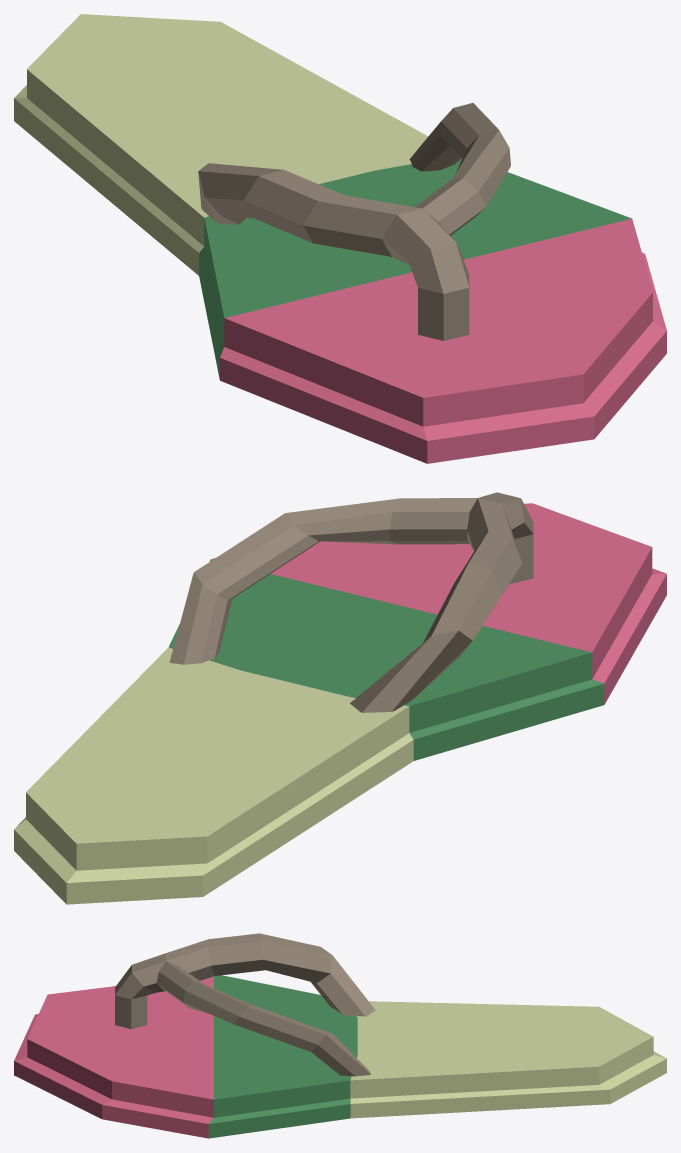
Rendered from flipflop.fbx.
3 renders of one model, top to bottom at view 1: azimuth 30°, elevation 25°; view 2: azimuth 150°, elevation 25°; view 3: azimuth 270°, elevation 25°, orthographic. The views are drawn at different scales.
Visible parts, largest first — view 1: pCylinder15; view 2: pCylinder15; view 3: pCylinder15.
Boxes of the visible parts, x1,y1,x2,y2 form: pCylinder15: [14, 14, 666, 463]; pCylinder15: [14, 492, 666, 904]; pCylinder15: [14, 933, 666, 1138].
Size of the model in its own units: 0.01 by 0.00349 by 0.021.
